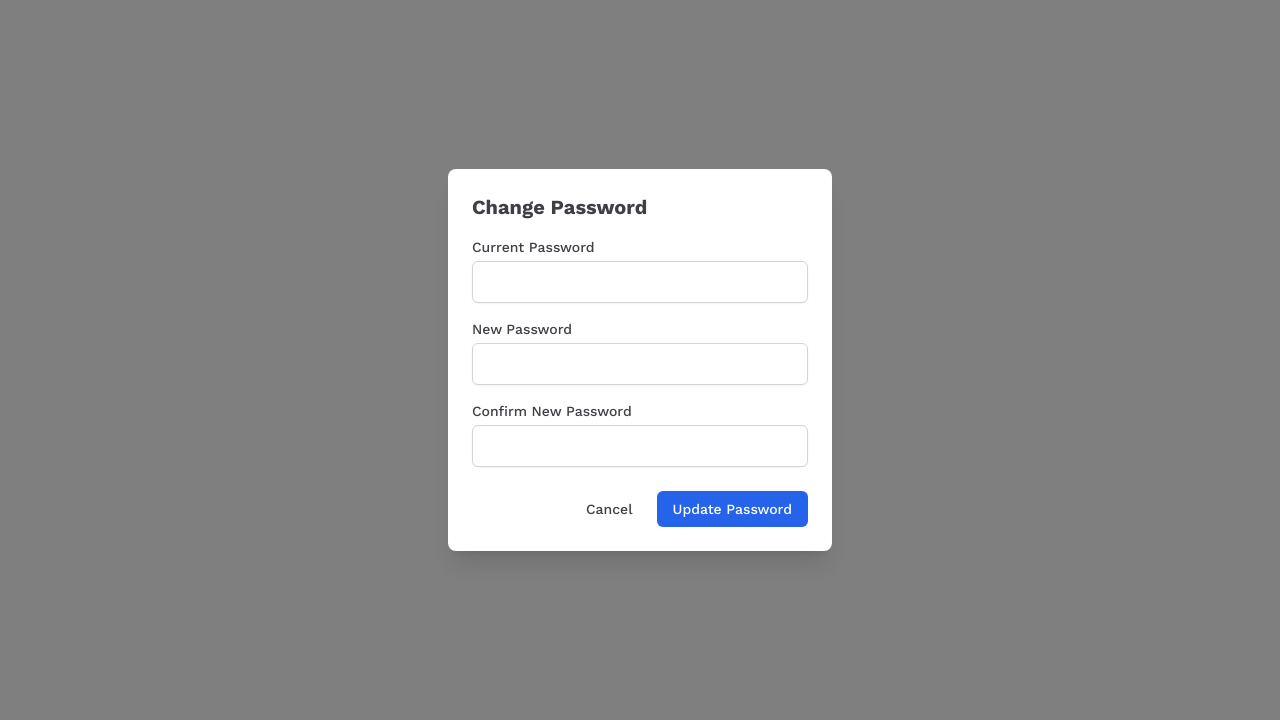
Scenario: PasswordChangeModal › shows generic error for non-Error rejection
Step 1. Type "current123" into the password field below "Current Password" → {"x": 640, "y": 282}, box [472,261,808,303]
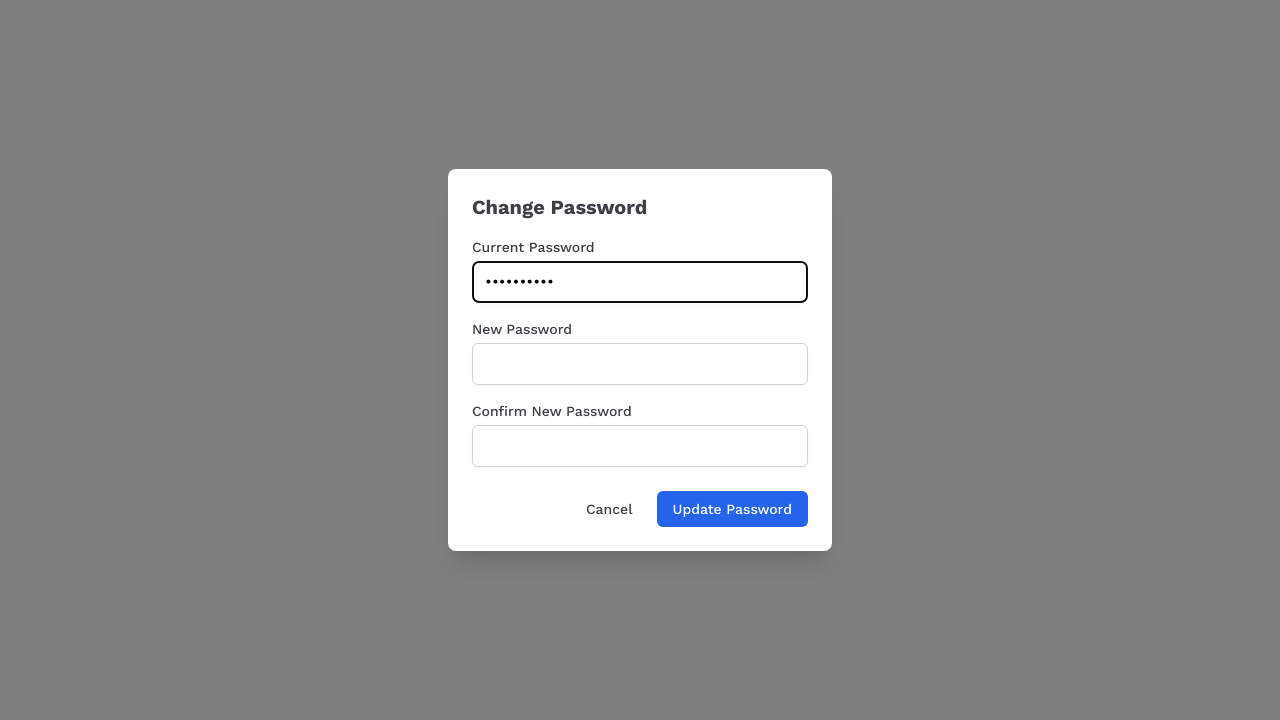
Step 2. Type "newpass123" into the 2nd password field → {"x": 640, "y": 364}, box [472,343,808,385]
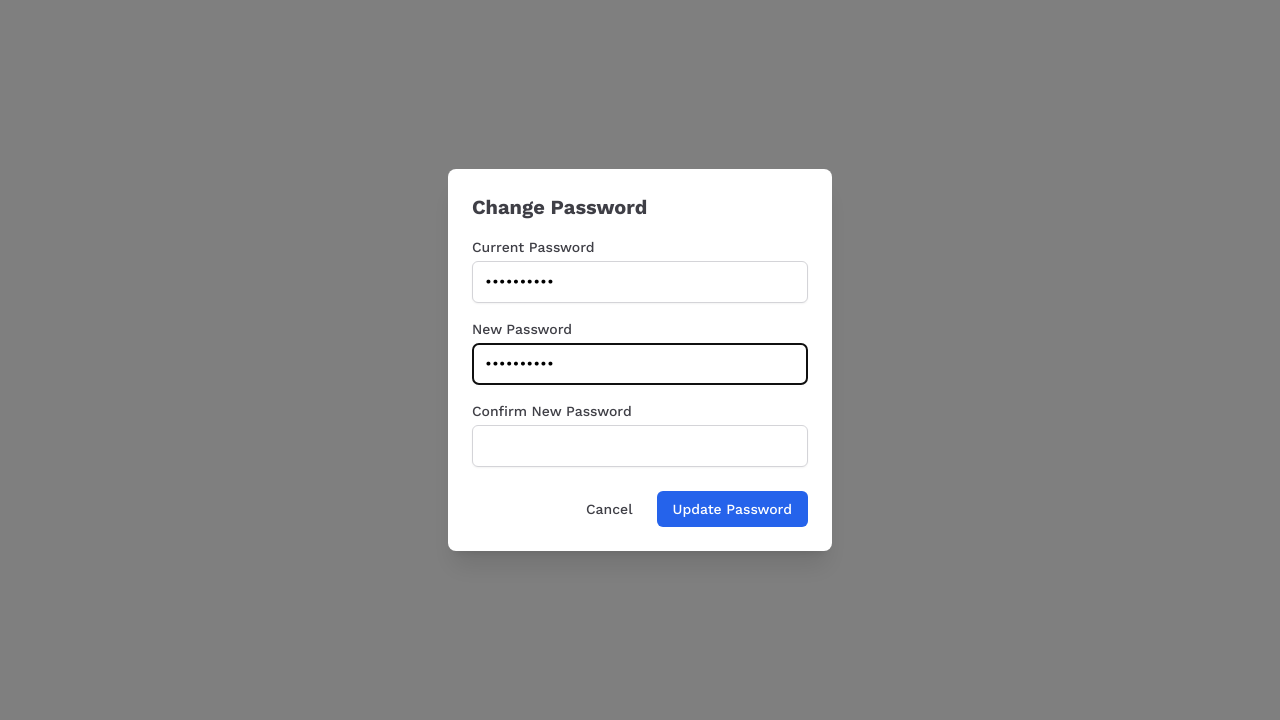
Step 3. Type "newpass123" into the password field below "Confirm New Password" → {"x": 640, "y": 446}, box [472,425,808,467]
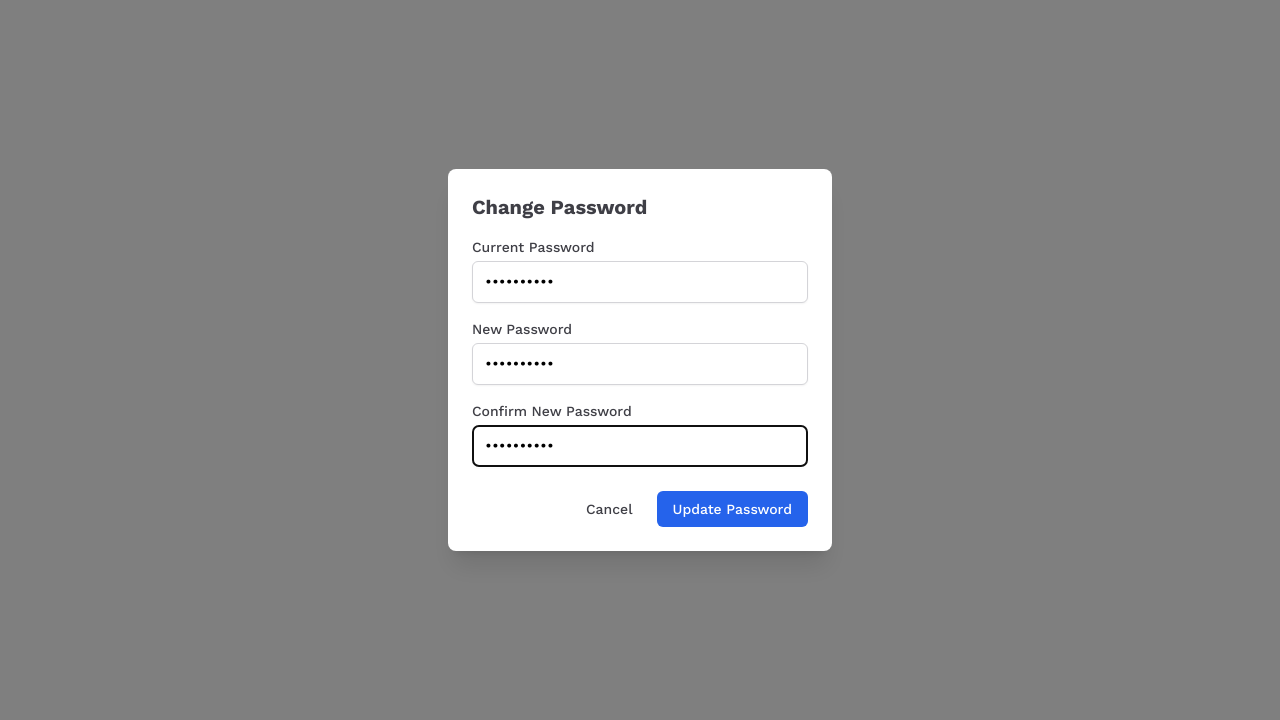
Step 4. Click the button "Update Password" → {"x": 732, "y": 509}, box [656,491,808,527]
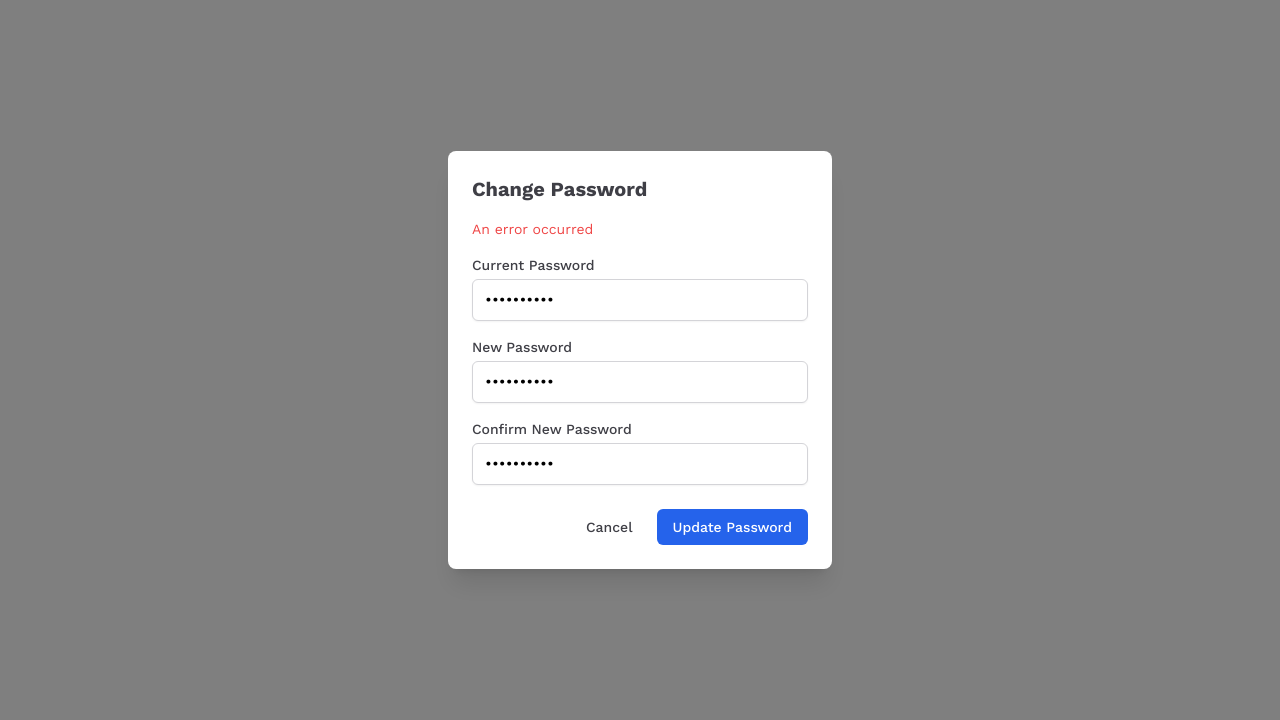
Expected: the text "An error occurred" is shown, [472,221,593,237]
